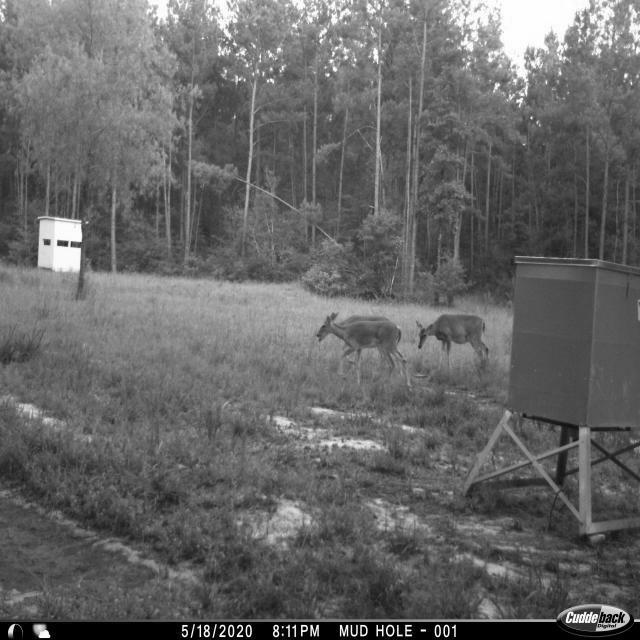Deer: (316, 311, 412, 393), (412, 312, 492, 381)
